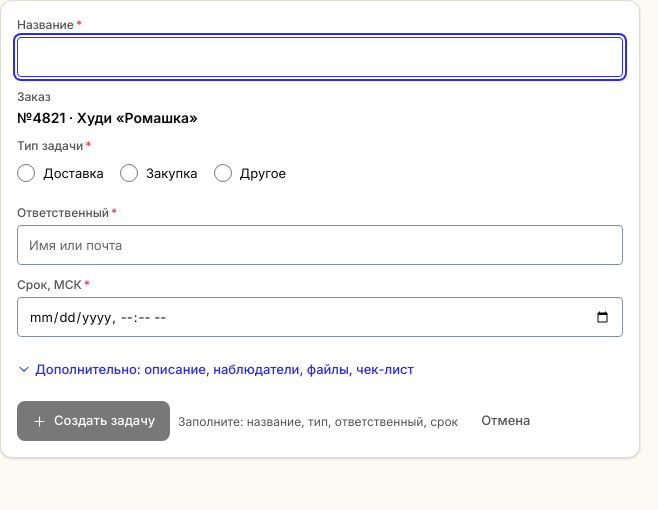
Test case: BizTaskCreateForm › срок в прошлом — предупреждение, но не блок
Type "Заказать молнии" into the field labelled "Название*". click: [320, 57]
box: [17, 37, 623, 77]
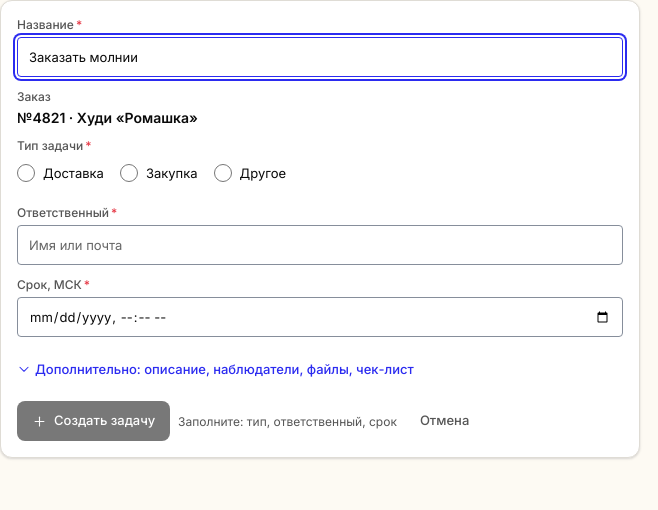
Click the radio button labelled "Закупка". click: [129, 173]
box: [120, 164, 138, 182]
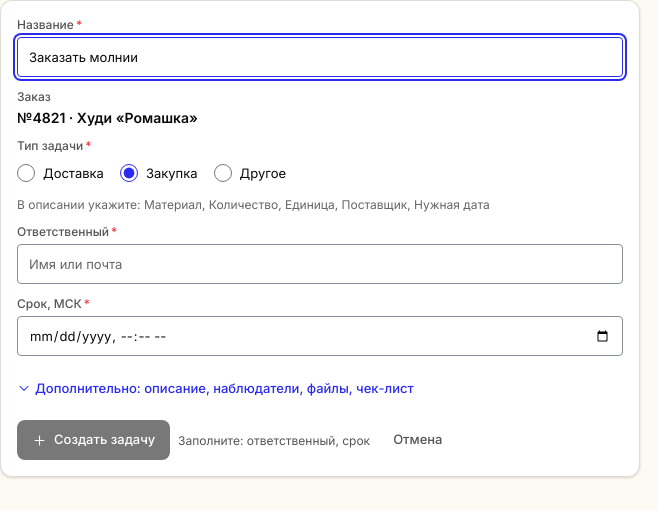
Type "Пет" into the dropdown labelled "Ответственный". click: [320, 264]
box: [17, 244, 623, 284]
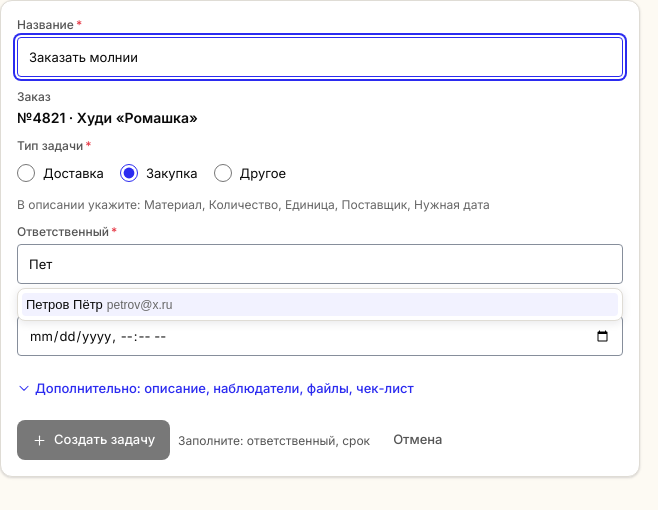
Press the mouse on the option "Петров Пётр petrov@x.ru" at [64, 304], box [22, 293, 618, 316]
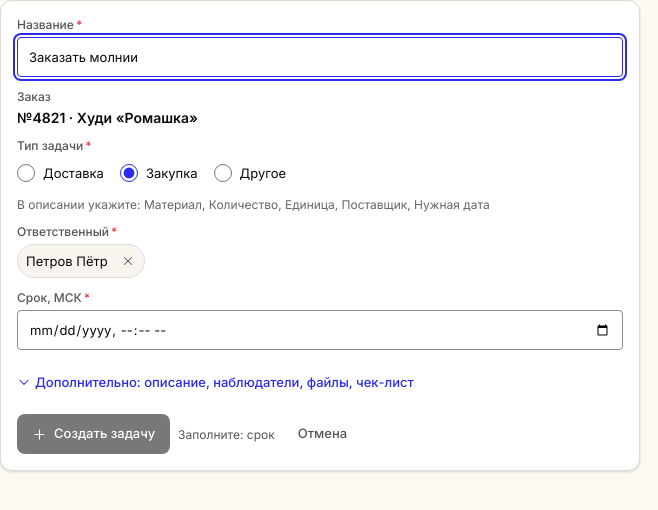
Type "2099-10-20T18:00" into the field labelled "Срок, МСК*". click: [320, 330]
box: [17, 310, 623, 350]
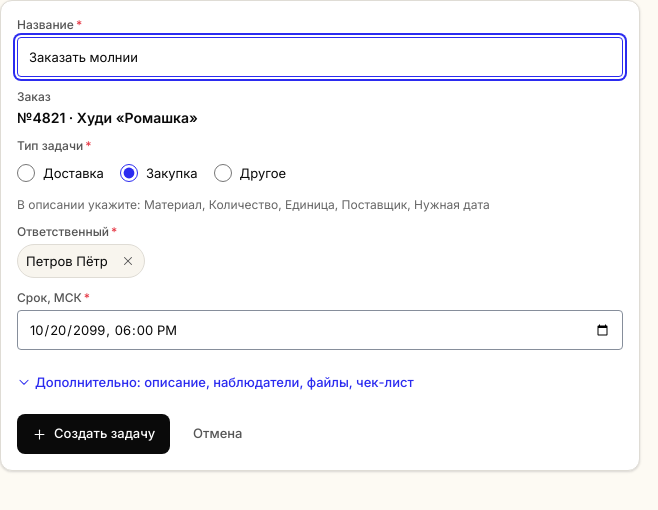
Replace the text in the field labelled "Срок, МСК*" with "2001-01-01T10:00". click: [320, 330]
box: [17, 310, 623, 350]
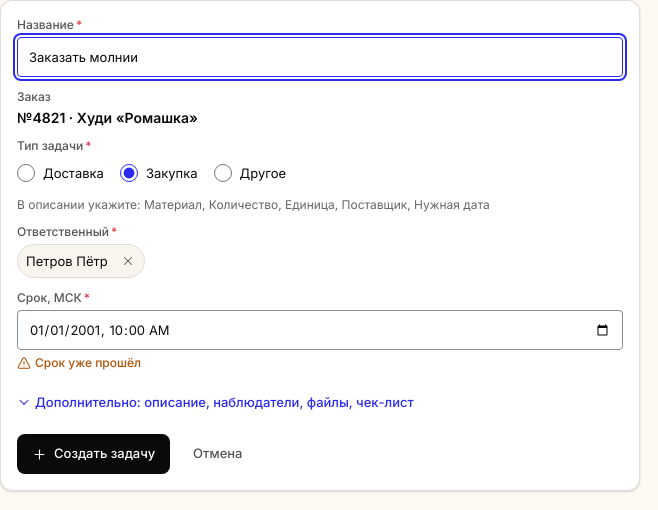
Expected: the text "Срок уже прошёл" is shown, [17, 355, 141, 370]
